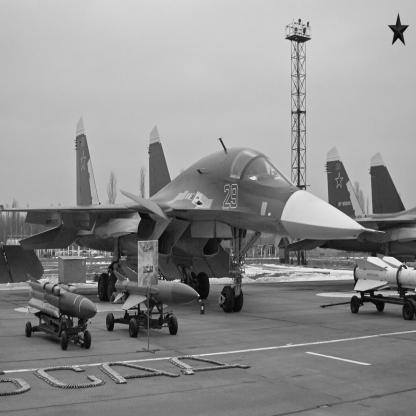Su34: (1, 115, 387, 314), (285, 145, 416, 265)
